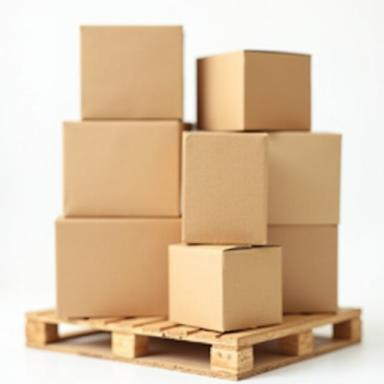pallet: (26, 306, 361, 382), (149, 337, 212, 361), (51, 324, 111, 346)
